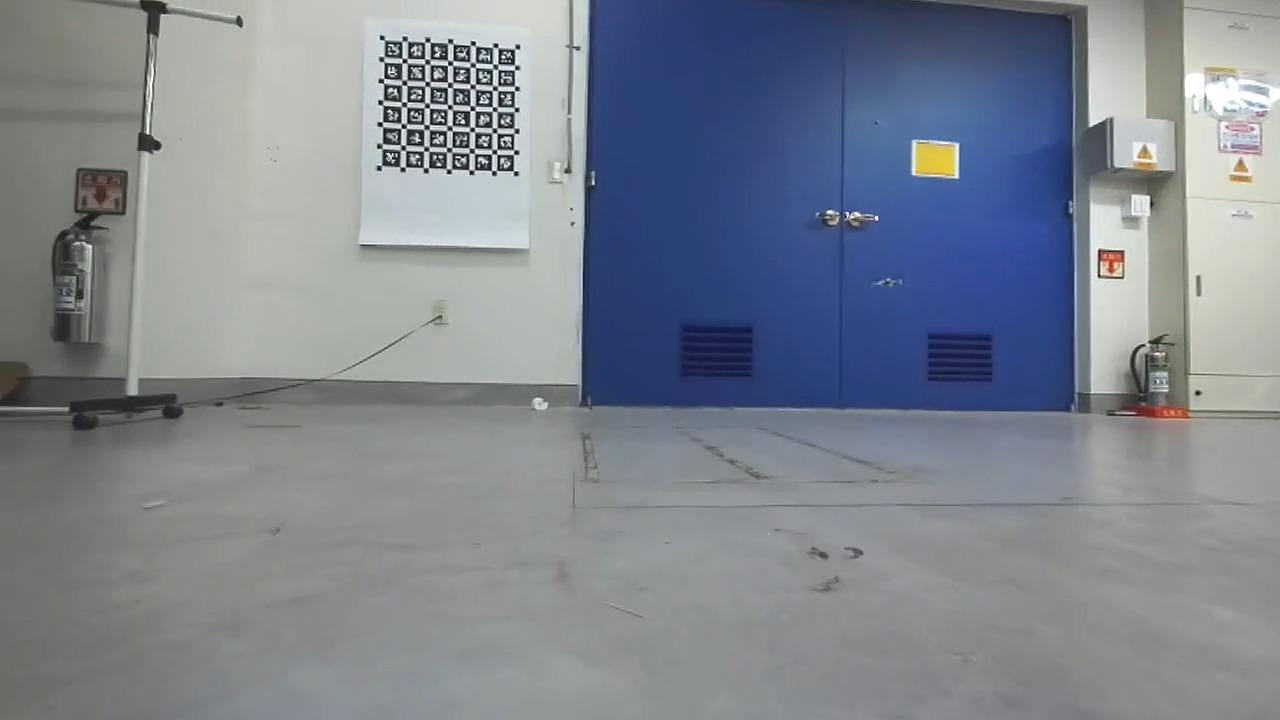crazyflie: (870, 273, 908, 292)
